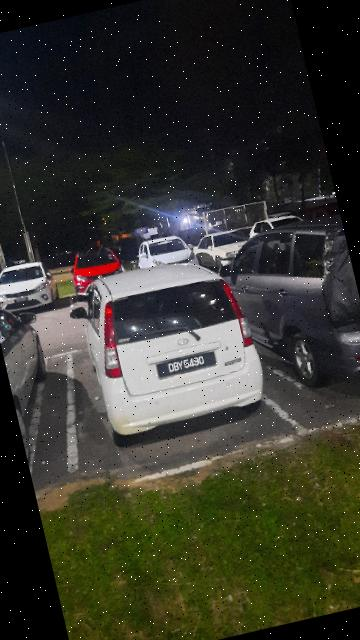License_Plate: (154, 347, 220, 382)
car: (65, 245, 274, 448)
